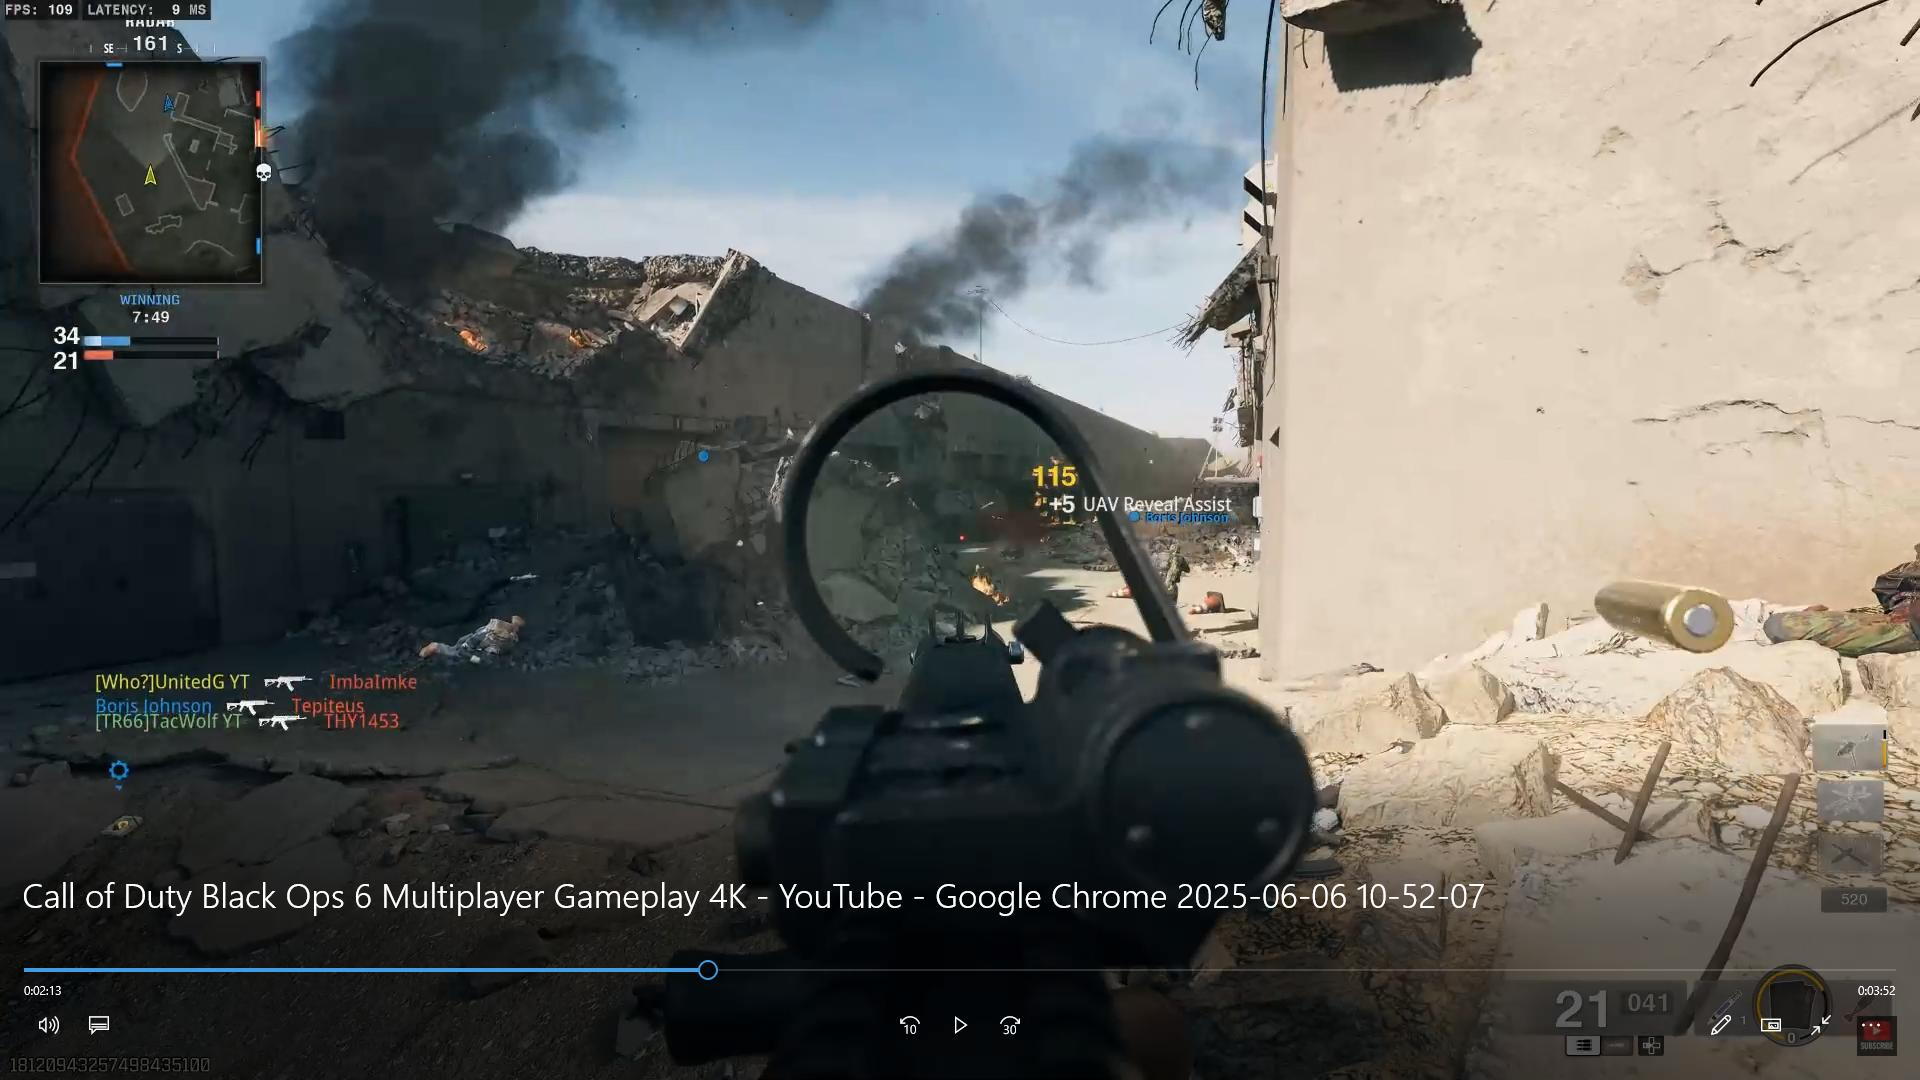Enemy: (1145, 530, 1197, 589)
